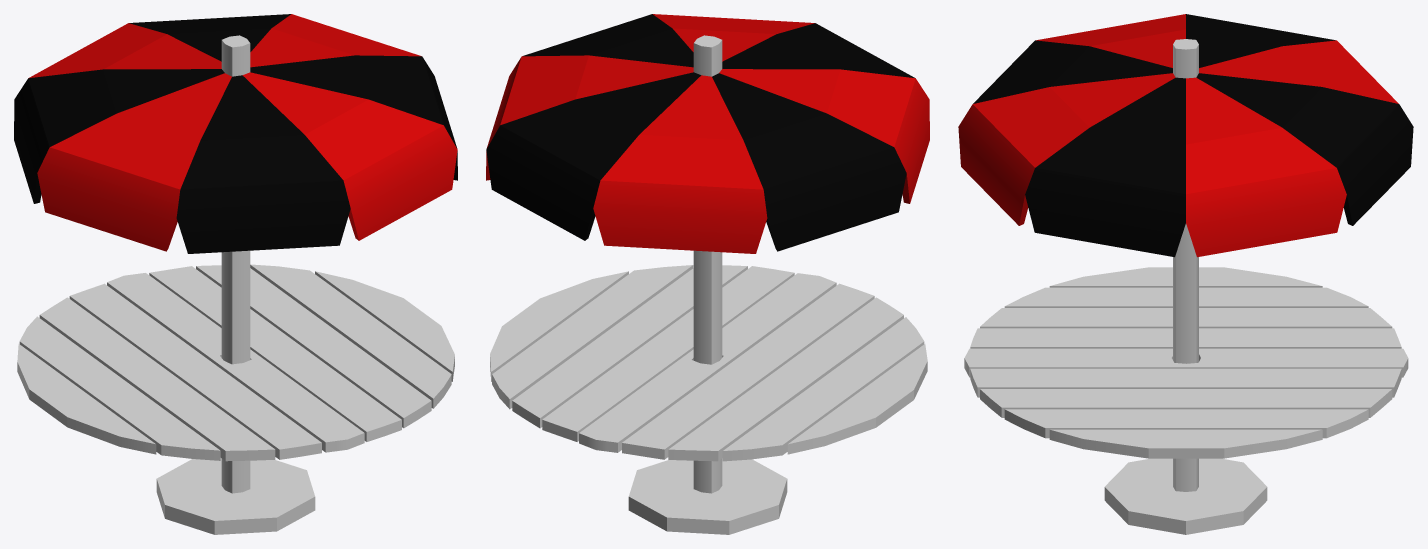
Rendered from table and umbrella.fbx.
3 views of the same model, side by side, from view 1: azimuth 30°, elevation 25°; view 2: azimuth 150°, elevation 25°; view 3: azimuth 270°, elevation 25° (orthographic).
Visible parts, largest first — view 1: pSphere1, pCube99, pCylinder1, pCube94, pCube100, pCube95, pCube96, pCube101, pCube97, pCube93, pCube102, pCube98; view 2: pSphere1, pCube99, pCylinder1, pCube94, pCube100, pCube95, pCube96, pCube101, pCube97, pCube93, pCube102, pCube98; view 3: pSphere1, pCylinder1, pCube95, pCube94, pCube96, pCube99, pCube100, pCube97, pCube98, pCube101, pCube93, pCube102.
Boxes of the visible parts, x1,y1,x2,y2 form: pSphere1: [14, 14, 457, 253]; pCube99: [69, 283, 321, 459]; pCylinder1: [156, 458, 315, 534]; pCube94: [107, 273, 364, 452]; pCube100: [39, 297, 275, 461]; pCube95: [149, 266, 401, 441]; pCube96: [196, 265, 431, 428]; pCube101: [19, 316, 220, 460]; pCube97: [250, 264, 451, 408]; pCube93: [221, 35, 250, 493]; pCube102: [17, 344, 156, 454]; pCube98: [315, 271, 454, 381]; pSphere1: [486, 14, 929, 253]; pCube99: [622, 283, 874, 459]; pCylinder1: [628, 458, 787, 534]; pCube94: [579, 273, 836, 452]; pCube100: [668, 297, 903, 461]; pCube95: [542, 266, 794, 441]; pCube96: [512, 265, 747, 428]; pCube101: [722, 317, 924, 461]; pCube97: [492, 265, 693, 409]; pCube93: [693, 35, 722, 493]; pCube102: [787, 344, 927, 454]; pCube98: [490, 271, 628, 381]; pSphere1: [958, 14, 1413, 257]; pCylinder1: [1104, 458, 1267, 534]; pCube95: [970, 368, 1401, 397]; pCube94: [964, 348, 1408, 377]; pCube96: [980, 389, 1392, 417]; pCube99: [970, 328, 1401, 348]; pCube100: [980, 308, 1392, 328]; pCube97: [1004, 409, 1368, 438]; pCube98: [1049, 429, 1322, 458]; pCube101: [1004, 287, 1368, 307]; pCube93: [1173, 39, 1198, 491]; pCube102: [1049, 267, 1322, 287].
Size of the model in its own units: 8.73 by 9.65 by 8.73.
